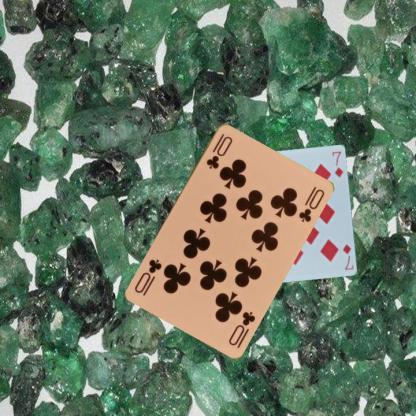10c: (203, 130, 234, 170), (226, 307, 256, 347)
7d: (340, 242, 355, 271)
